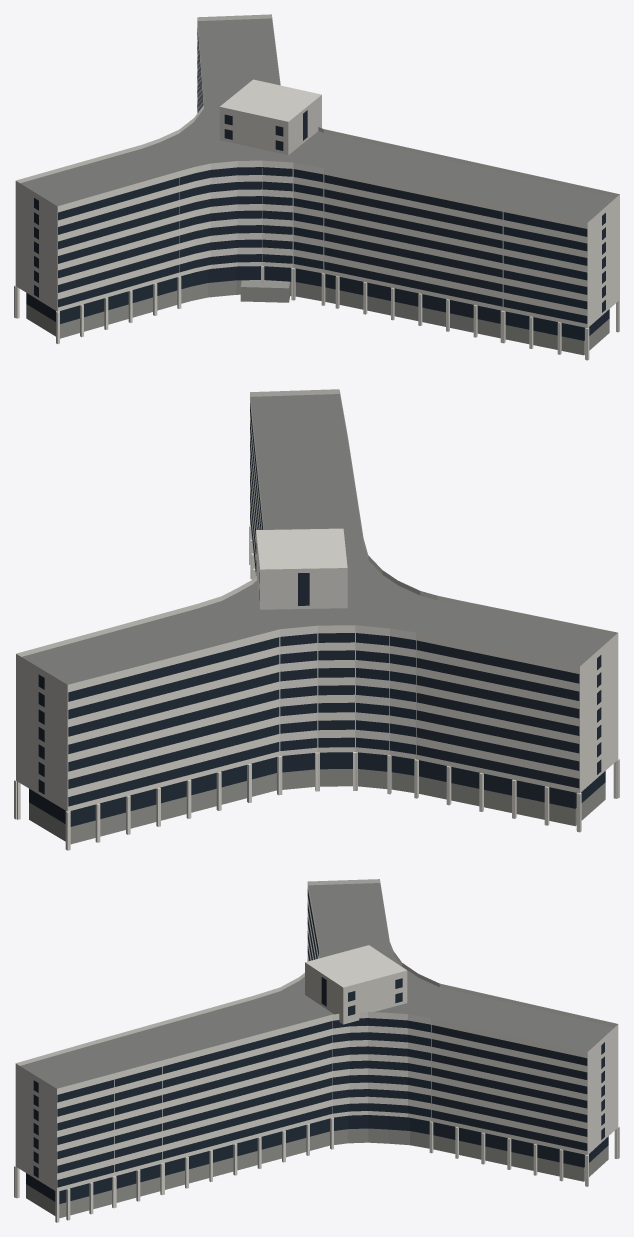
File: sevgu_main.lod.glb
3 renders of one model, top to bottom at view 1: azimuth 30°, elevation 25°; view 2: azimuth 150°, elevation 25°; view 3: azimuth 270°, elevation 25°, orthographic. The views are drawn at different scales.
Parts seen in each view (by area): view 1: sevgu_main_wall, sevgu_main_glass, sevgu_main_roof, sevgu_main_stone, sevgu_main_wall2; view 2: sevgu_main_wall, sevgu_main_glass, sevgu_main_roof, sevgu_main_stone, sevgu_main_wall2; view 3: sevgu_main_wall, sevgu_main_glass, sevgu_main_roof, sevgu_main_stone, sevgu_main_wall2.
Boxes of the visible parts, x1,y1,x2,y2 form: sevgu_main_wall: (14,14,619,360); sevgu_main_glass: (26,28,609,340); sevgu_main_roof: (20,18,615,222); sevgu_main_stone: (26,280,609,355); sevgu_main_wall2: (219,79,321,155); sevgu_main_wall: (14,389,619,850); sevgu_main_glass: (29,403,605,826); sevgu_main_roof: (22,394,613,684); sevgu_main_stone: (29,769,605,844); sevgu_main_wall2: (256,528,347,609); sevgu_main_wall: (14,879,619,1222); sevgu_main_glass: (26,889,608,1203); sevgu_main_roof: (20,883,614,1088); sevgu_main_stone: (26,1128,608,1218); sevgu_main_wall2: (305,945,407,1024).
Bounding box in the file's own units: 105 × 37.9 × 128.
